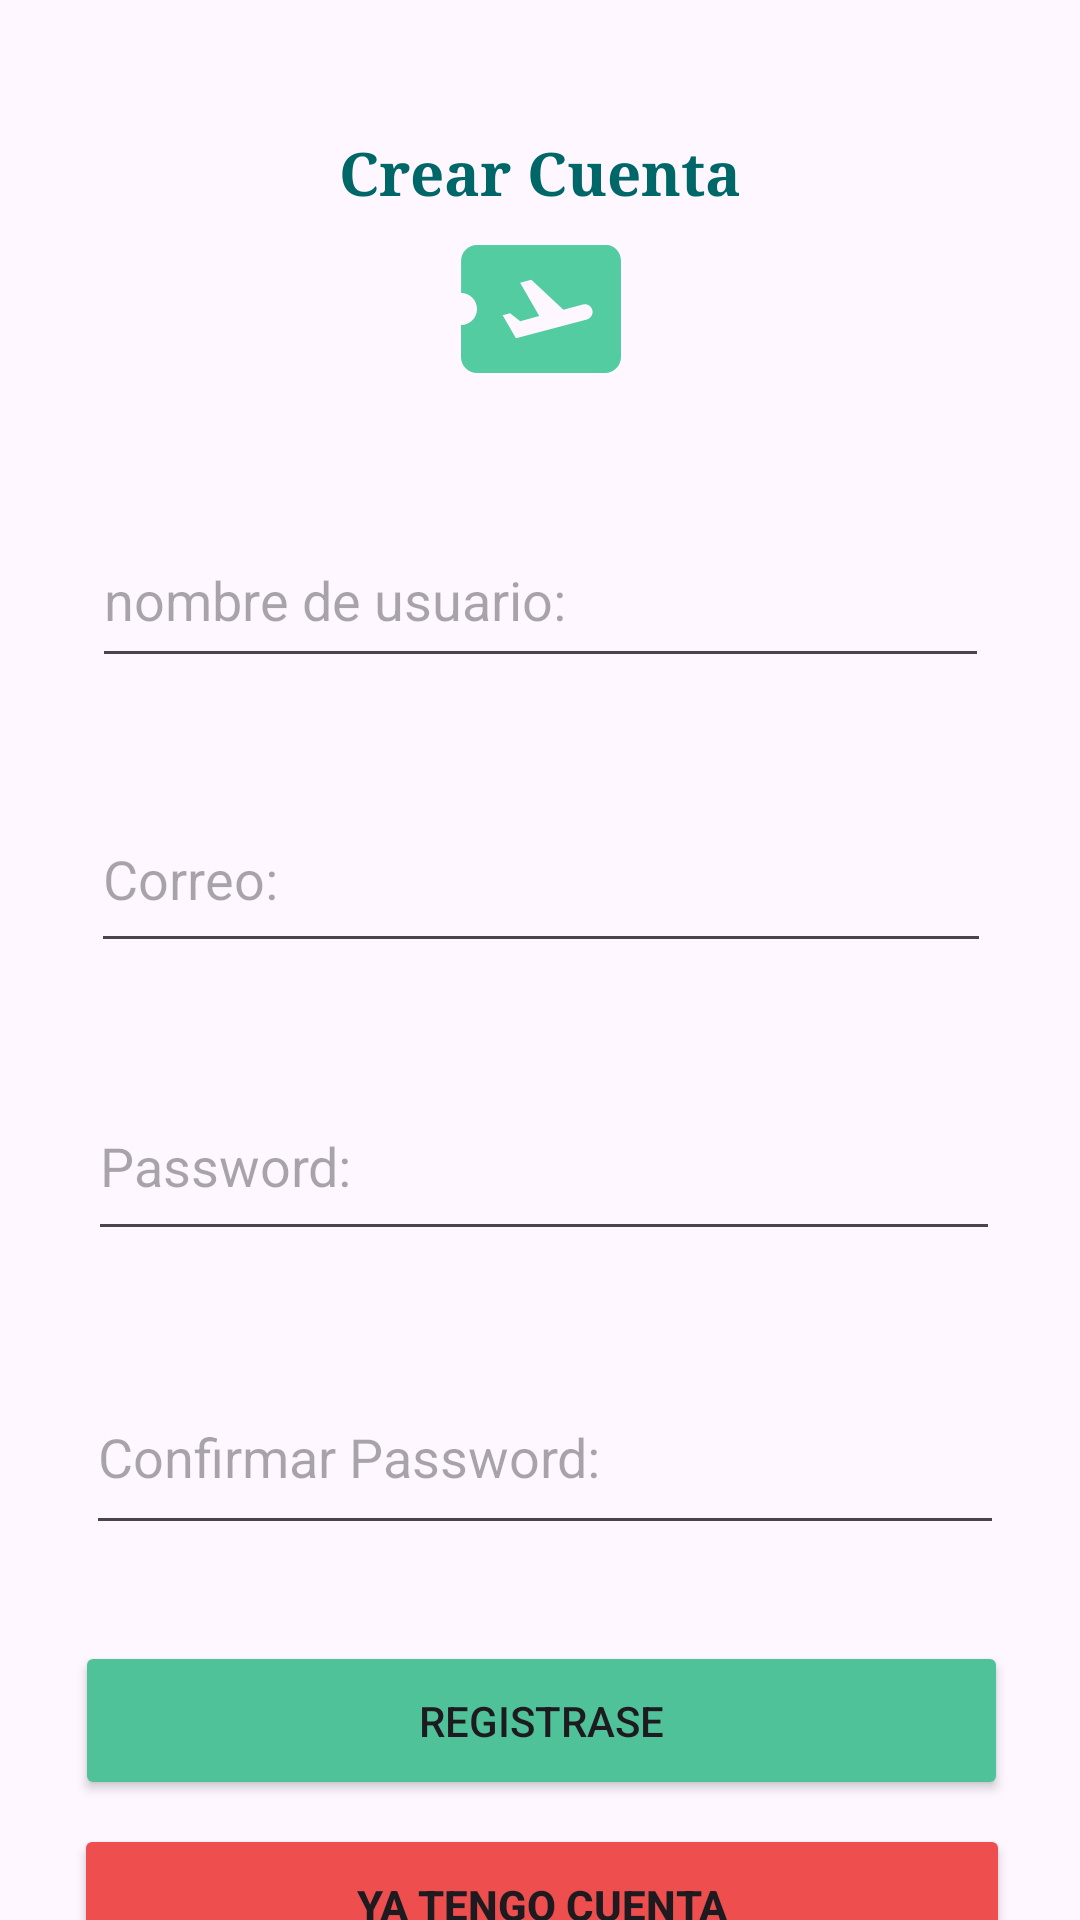

Named icons in this screenshot (1080x1920) and their centers, (x=x, y=y):
ticket: (x=541, y=309)
